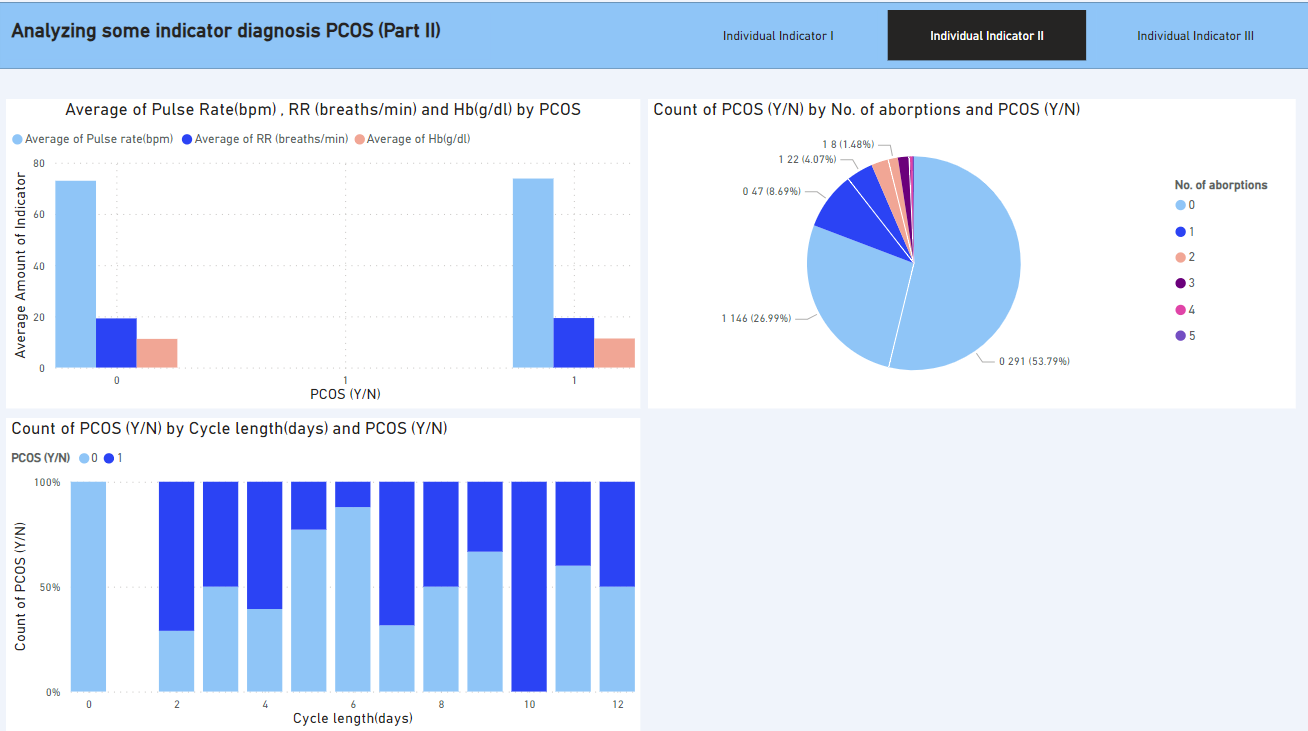

This screenshot's page, from the dashboard's own definition file:
{"tool":"powerbi","page":{"name":"Individual Indicator II","canvas":[1280,720],"ordinal":1},"visuals":[{"type":"clusteredColumnChart","title":"Average of Pulse Rate(bpm) , RR (breaths/min) and Hb(g/dl) by PCOS","fields":{"Category":["Table 3 (Full_new).PCOS (Y/N)"],"Y":["Avg(Table 3 (Full_new).Pulse rate(bpm) )","Avg(Table 3 (Full_new).RR (breaths/min))","Avg(Table 3 (Full_new).Hb(g/dl))"]},"box":[6.8,104.1,616.7,300.5],"z":0},{"type":"hundredPercentStackedColumnChart","fields":{"Category":["Table 3 (Full_new).Cycle length(days)"],"Y":["CountNonNull(Table 3 (Full_new).PCOS (Y/N))"],"Series":["Table 3 (Full_new).PCOS (Y/N)"]},"box":[6.8,414.3,616.7,305.4],"z":1000},{"type":"pieChart","fields":{"Category":["Table 3 (Full_new).No. of aborptions"],"Y":["CountNonNull(Table 3 (Full_new).PCOS (Y/N))"],"Series":["Table 3 (Full_new).PCOS (Y/N)"]},"box":[631.2,104.1,630.3,300.5],"z":2000},{"type":"shape","box":[0,9.7,1280,65.2],"z":2001},{"type":"textbox","box":[6.8,20.4,470.8,44.7],"z":2002},{"type":"pageNavigator","box":[661.4,17.5,600.1,49.6],"z":2003}]}

Visuals, with their boxes in screenshot pixels (x1, y1, x2, y2), scaled from the page's 1280x720 canvas onto the 1308x731 screenshot:
"Average of Pulse Rate(bpm) , RR (breaths/min) and Hb(g/dl) by PCOS" clusteredColumnChart: {"x1": 7, "y1": 106, "x2": 637, "y2": 411}
hundredPercentStackedColumnChart - Table 3 (Full_new).Cycle length(days) x CountNonNull(Table 3 (Full_new).PCOS (Y/N)): {"x1": 7, "y1": 421, "x2": 637, "y2": 730}
pieChart - Table 3 (Full_new).No. of aborptions x CountNonNull(Table 3 (Full_new).PCOS (Y/N)): {"x1": 645, "y1": 106, "x2": 1289, "y2": 411}
shape: {"x1": 0, "y1": 10, "x2": 1307, "y2": 76}
textbox: {"x1": 7, "y1": 21, "x2": 488, "y2": 66}
pageNavigator: {"x1": 676, "y1": 18, "x2": 1289, "y2": 68}
